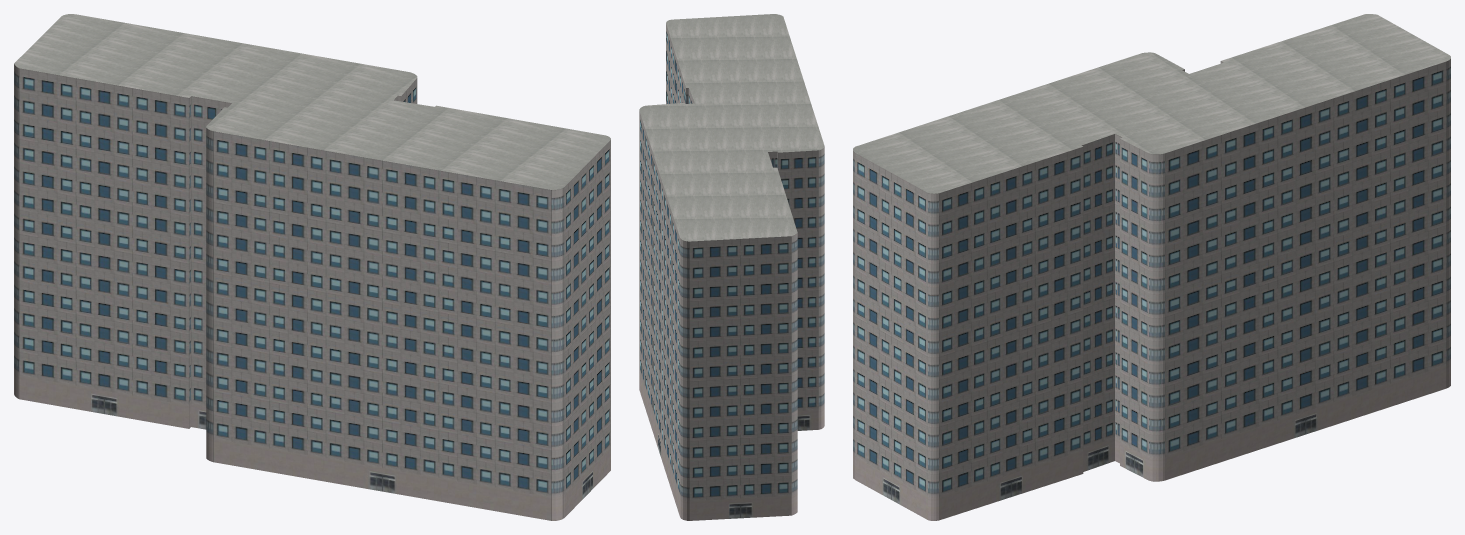
The picture shows the model from 3 angles, left to right: view 1: azimuth 30°, elevation 25°; view 2: azimuth 150°, elevation 25°; view 3: azimuth 270°, elevation 25°; orthographic projection. The views are drawn at different scales.
Visible parts, largest first — view 1: BuildingMaster_1991194553994463780300000000_0, BuildingMaster_1991194553994463780300000000_1; view 2: BuildingMaster_1991194553994463780300000000_0, BuildingMaster_1991194553994463780300000000_1; view 3: BuildingMaster_1991194553994463780300000000_0, BuildingMaster_1991194553994463780300000000_1.
Boxes of the visible parts, x1,y1,x2,y2 form: BuildingMaster_1991194553994463780300000000_0: [14, 64, 610, 520]; BuildingMaster_1991194553994463780300000000_1: [14, 14, 610, 189]; BuildingMaster_1991194553994463780300000000_0: [639, 24, 824, 520]; BuildingMaster_1991194553994463780300000000_1: [639, 14, 824, 241]; BuildingMaster_1991194553994463780300000000_0: [853, 59, 1450, 520]; BuildingMaster_1991194553994463780300000000_1: [853, 14, 1450, 193].
Size of the model in its own units: 57.77 by 49 by 81.17.
2 materials, 2 textured.
